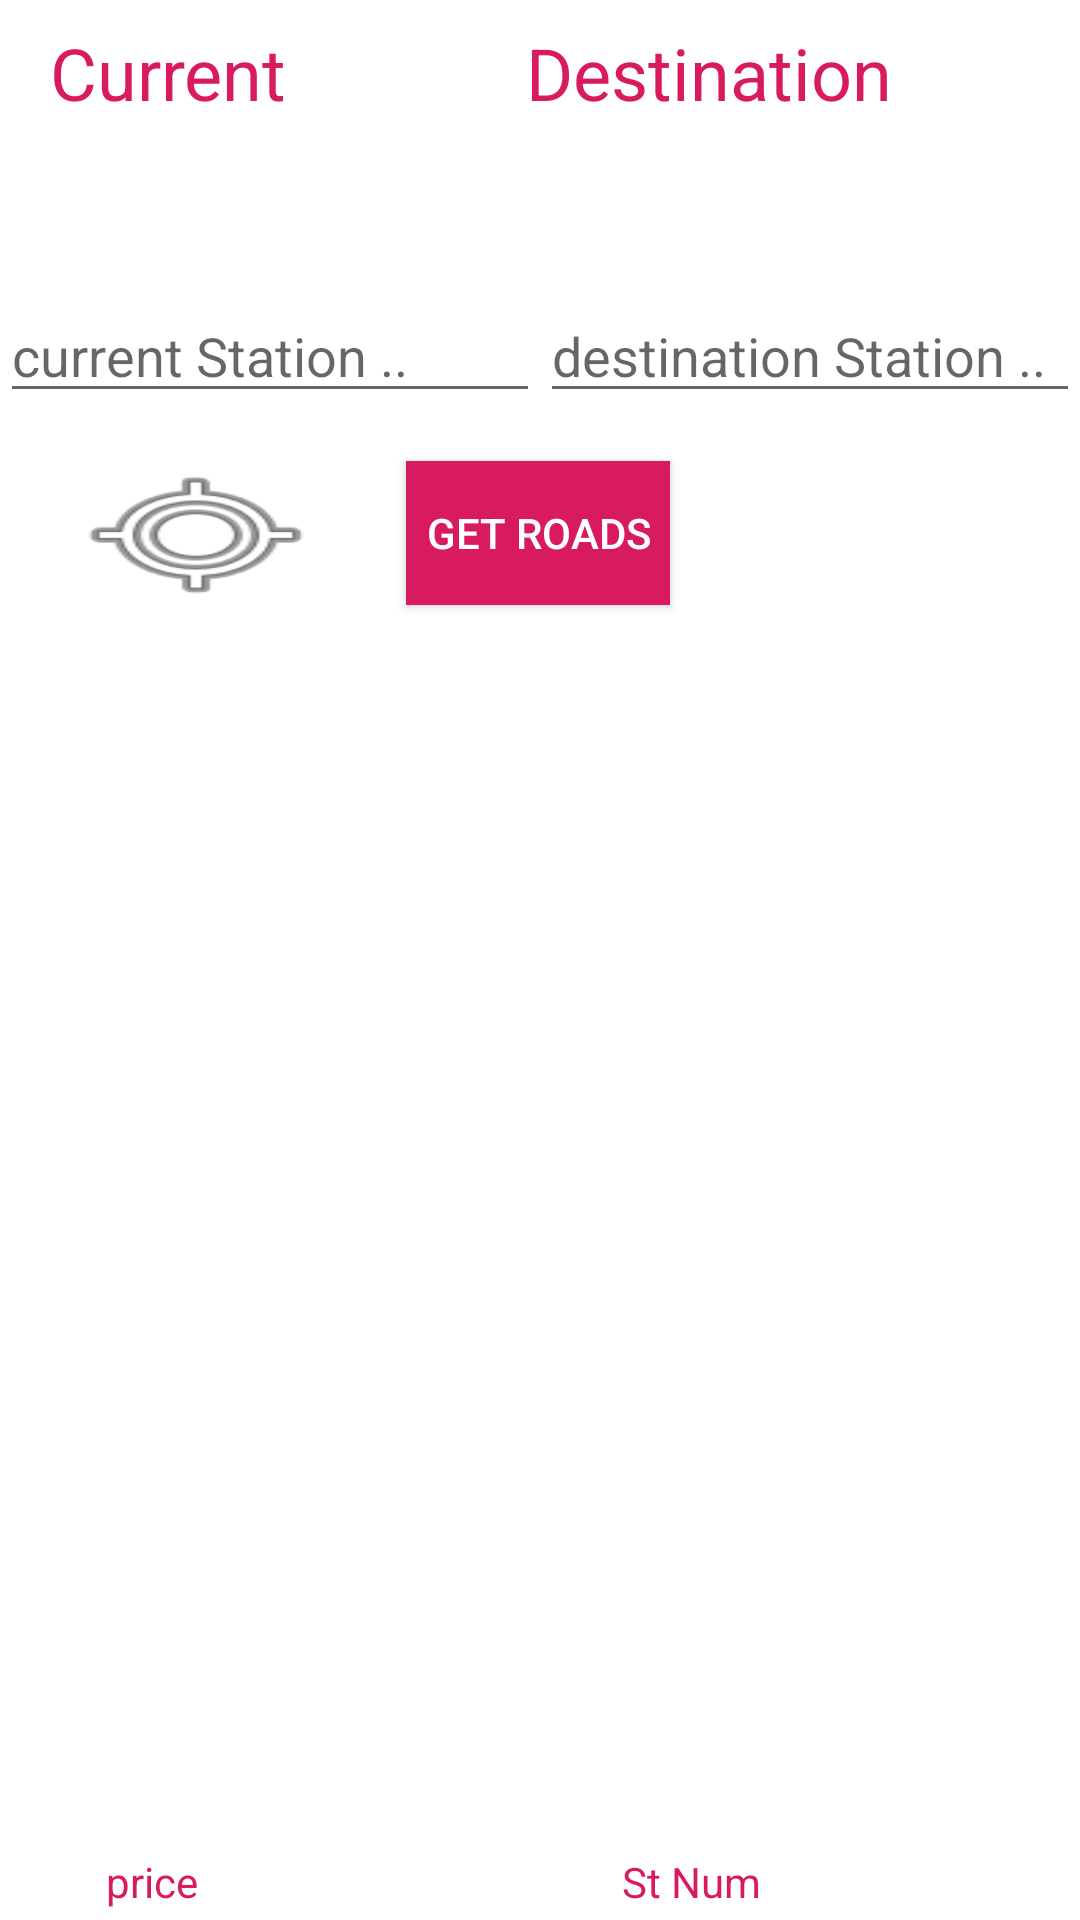

Where to tap for icons on this 1080px x 1920px app screen, as (x=x, y=y):
mylocation: (x=196, y=535)
